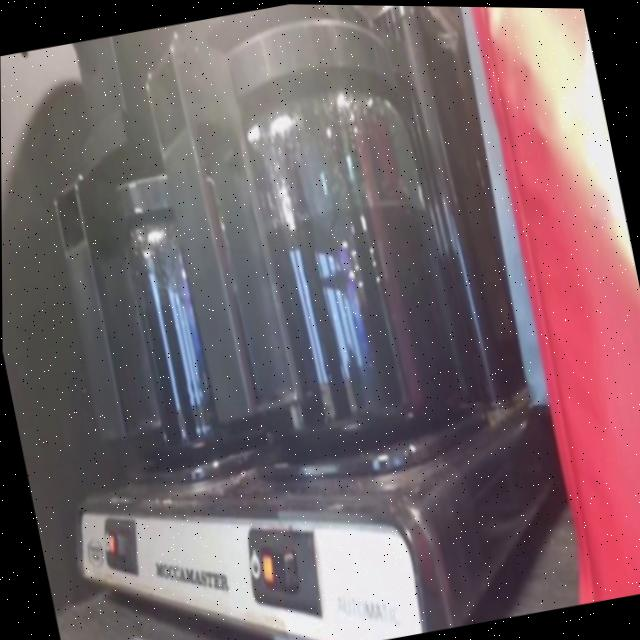coffee: (213, 123, 466, 454), (105, 238, 269, 472)
